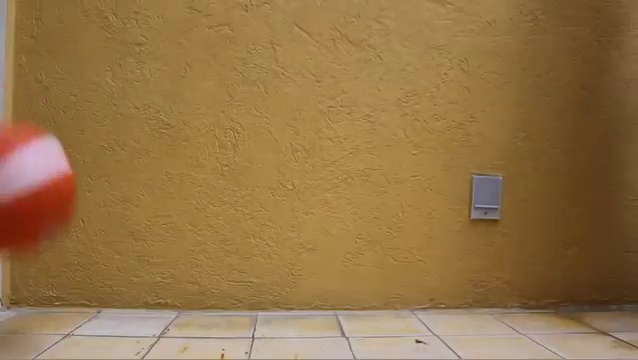ball: (1, 120, 77, 259)
